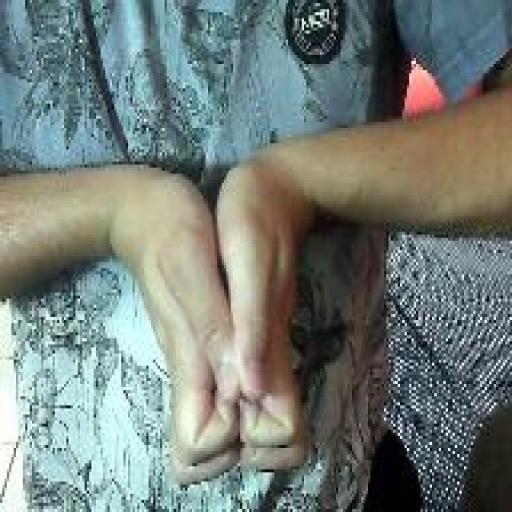I -boar-: (124, 156, 316, 490)
